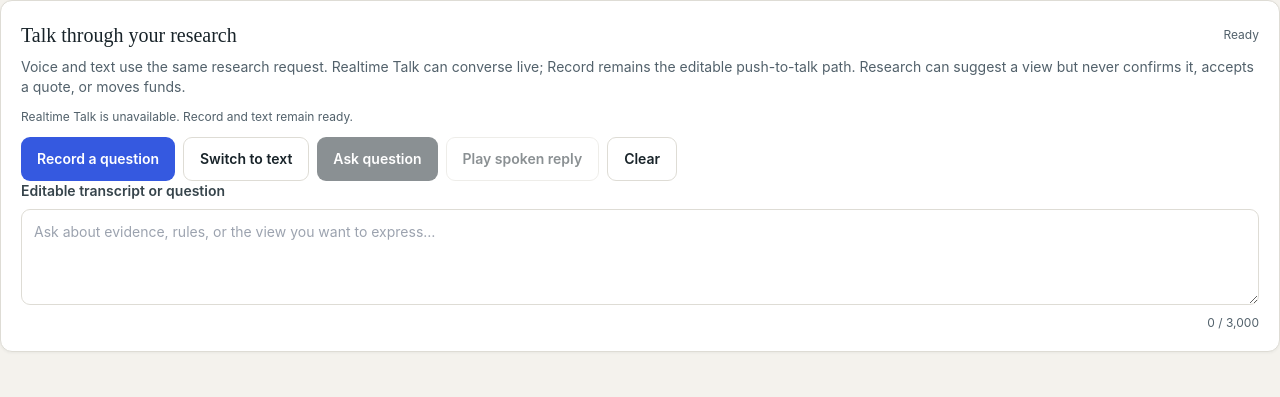
VoicePanel interaction flows › explains NotFoundError microphone errors and leaves text available
Click the button "Record a question" at (98, 159), box [21, 137, 175, 181]
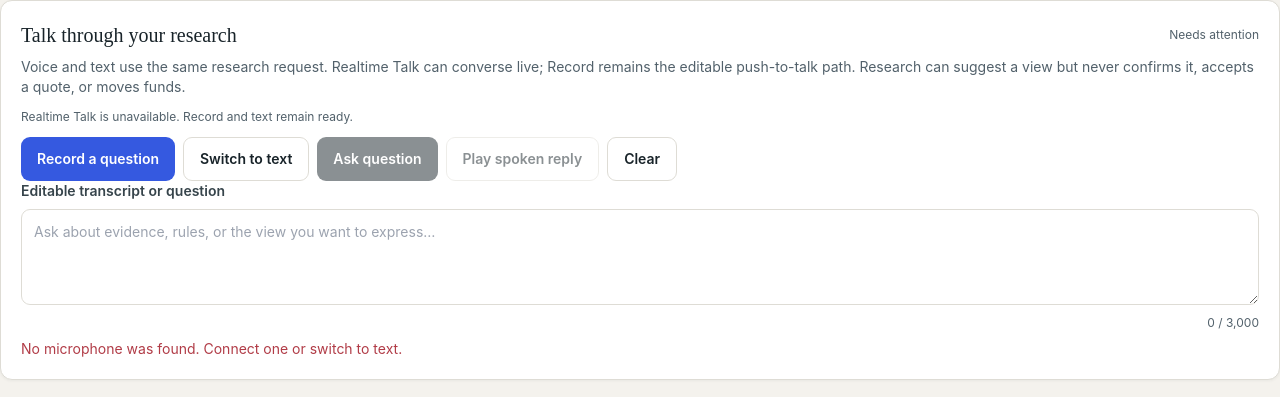
Check: the button "Switch to text" is enabled, box [183, 137, 309, 181]
Check: the text "No microphone was found. Connect one or switch to text." is shown, box [21, 340, 402, 357]
